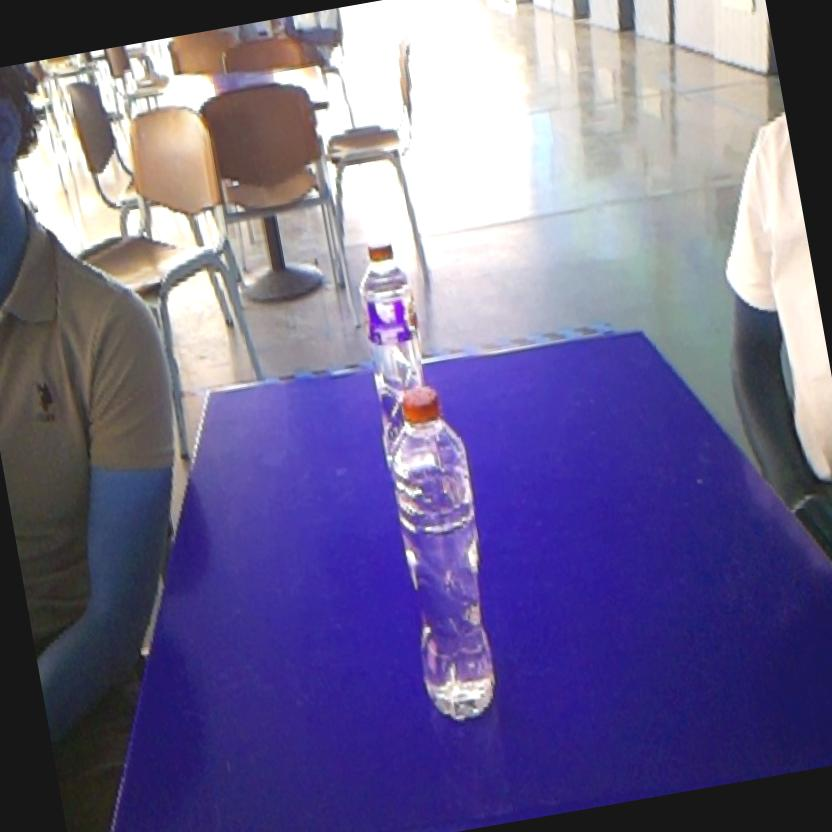good: (341, 222, 438, 388)
no_label: (366, 372, 521, 738)
